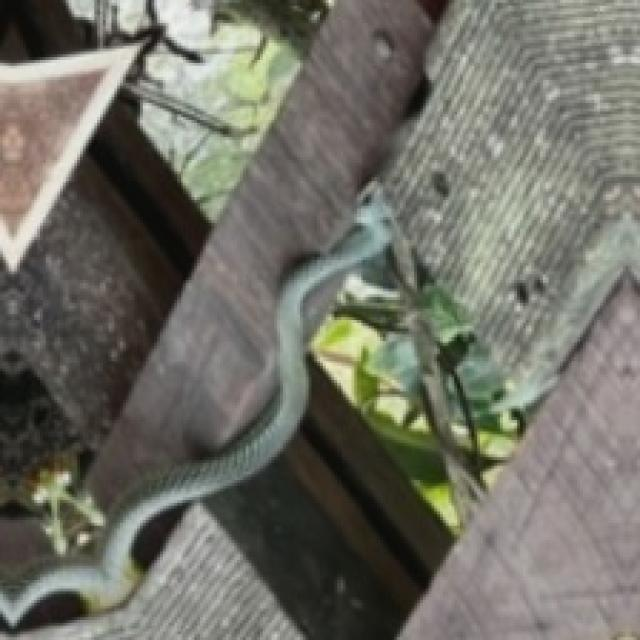paradise tree snake: (0, 194, 389, 626)
